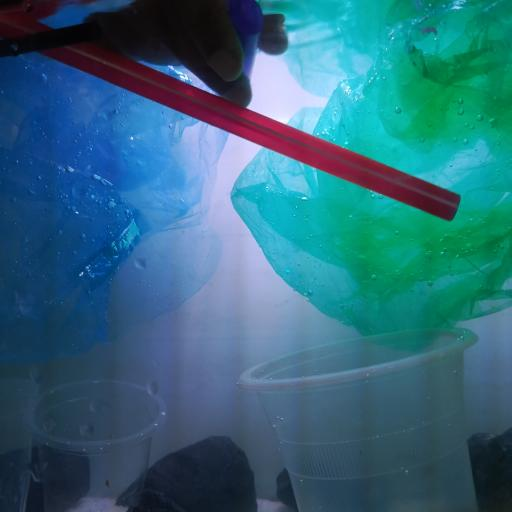plastic_bag: (230, 1, 512, 349), (0, 47, 230, 362)
plastic_cup: (236, 325, 480, 512), (18, 377, 168, 512), (0, 375, 40, 512)
plastic_straw: (0, 4, 461, 222)
